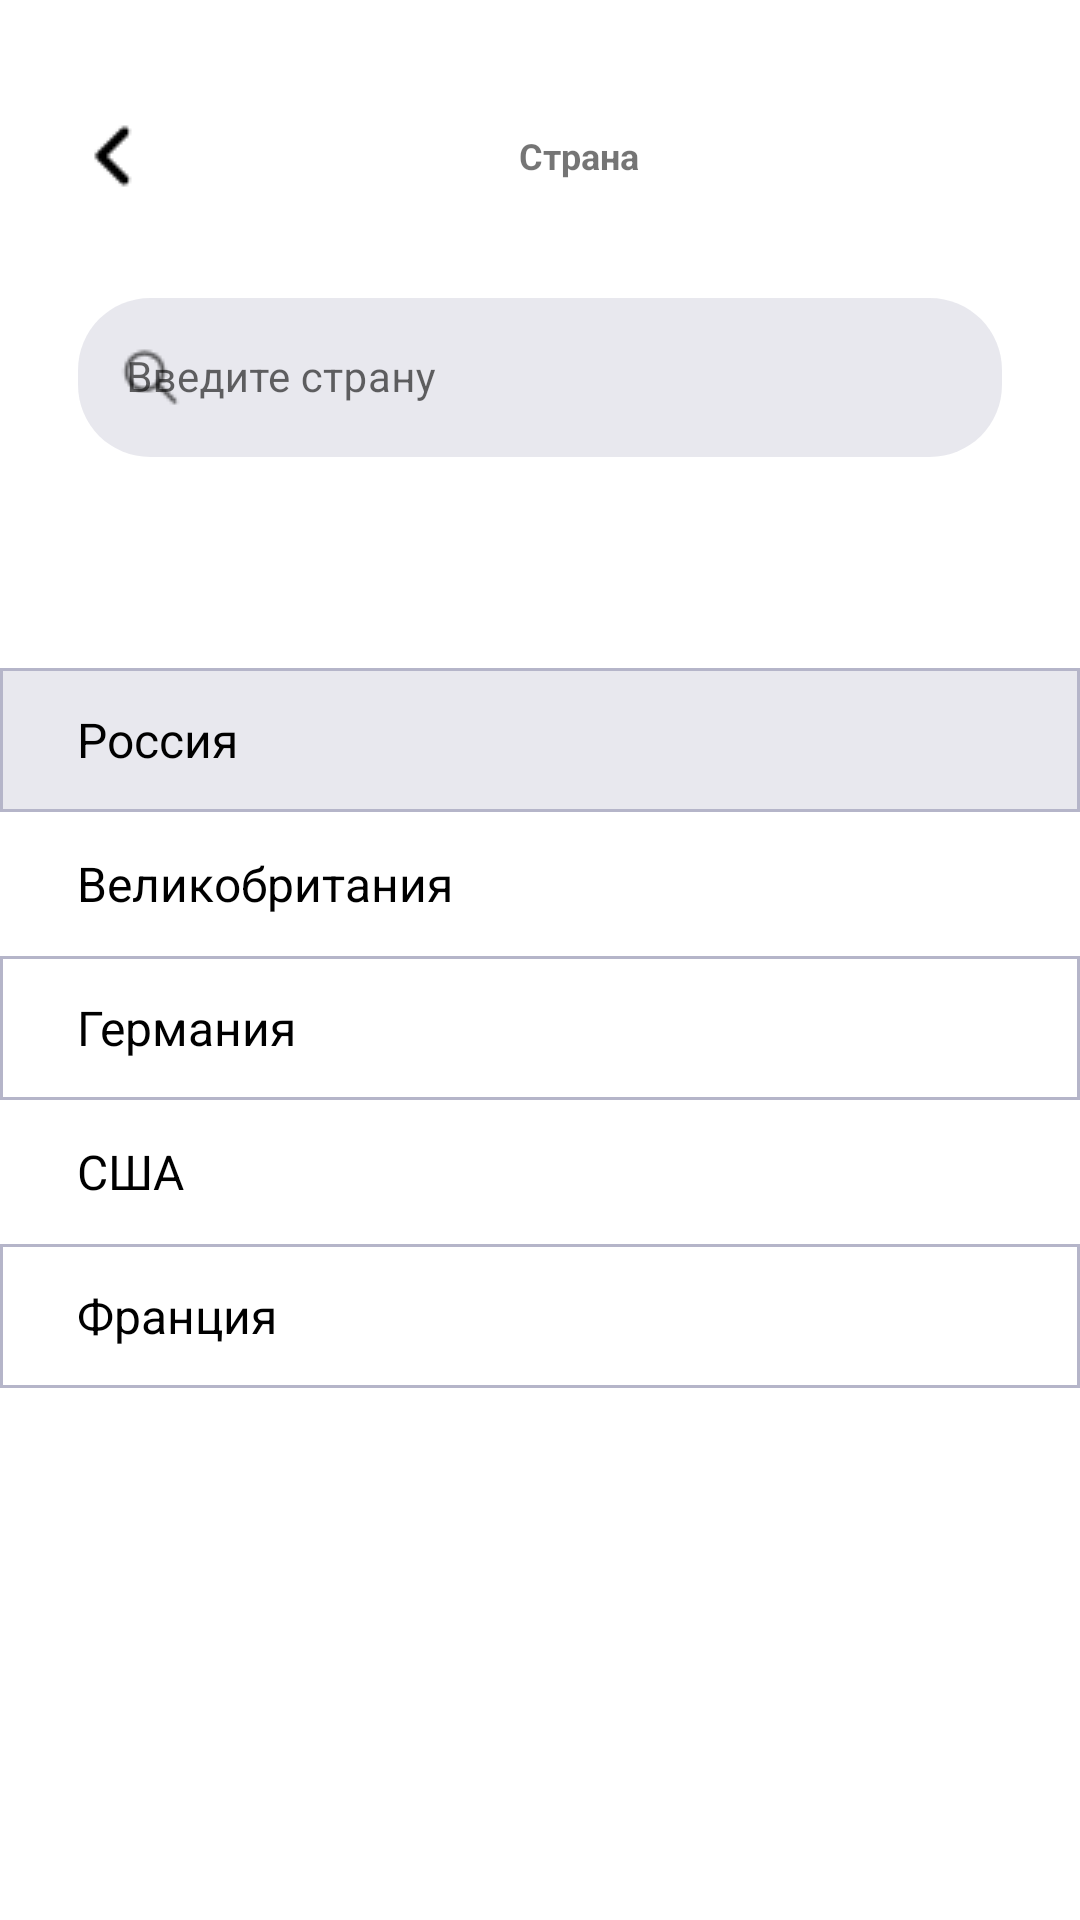

Icon bounding boxes for this 1080 × 1920 phone screenshot, format region(x1, y1, x2, y2):
caret left: region(94, 125, 131, 187)
